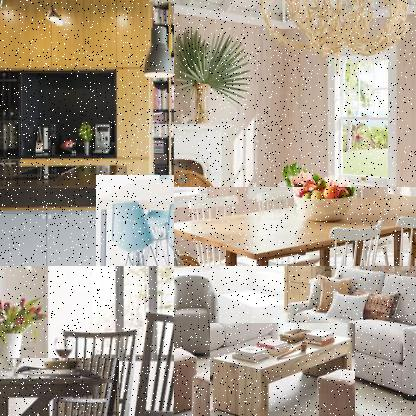table: (174, 187, 415, 265), (210, 323, 356, 415), (96, 175, 173, 265), (0, 358, 121, 415)
